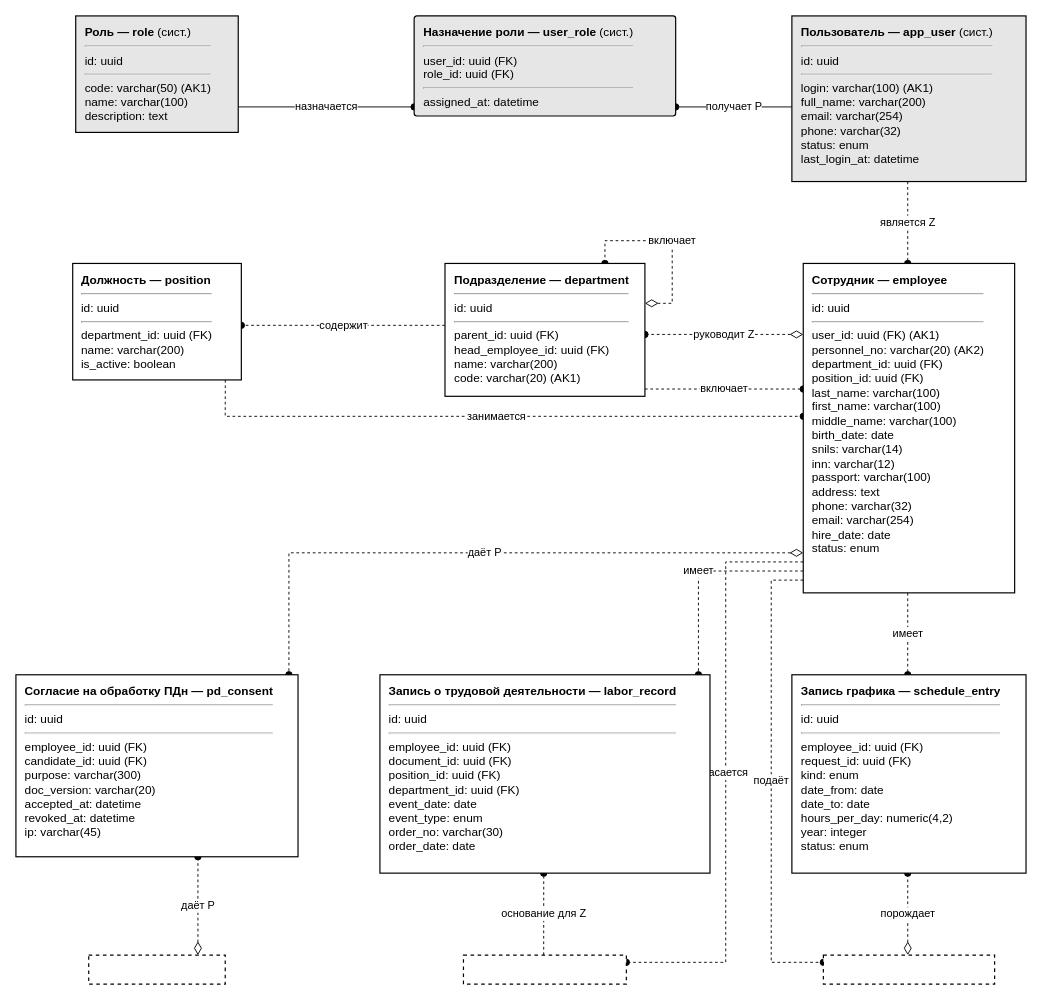
Some shapes in this 1043 by 1003 pixel diagram are drawn without their labels. Each missing label, with the centre of its shape:
"Кадровое заявление" goes at point 908,969.
"Кадровый документ" goes at point 544,969.
"Кандидат" goes at point 156,969.
